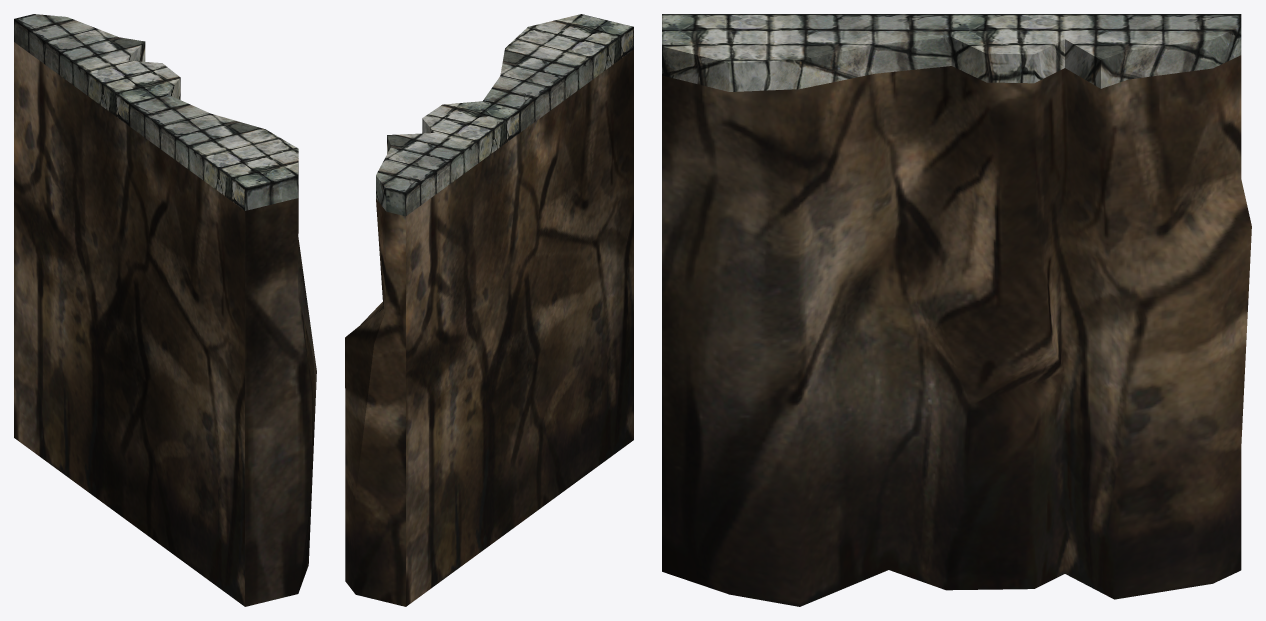
File: STR_FloorTileBrokenB.FBX
3 renders of one model, left to right at view 1: azimuth 30°, elevation 25°; view 2: azimuth 150°, elevation 25°; view 3: azimuth 270°, elevation 25°, orthographic. The views are drawn at different scales.
Visible parts, largest first — view 1: STR_FloorTileBrokenB; view 2: STR_FloorTileBrokenB; view 3: STR_FloorTileBrokenB.
Boxes of the visible parts, <box> form: STR_FloorTileBrokenB: <box>14,14,316,606</box>; STR_FloorTileBrokenB: <box>345,14,633,606</box>; STR_FloorTileBrokenB: <box>662,14,1251,606</box>.
Size of the model in its own units: 221 by 800 by 815.
